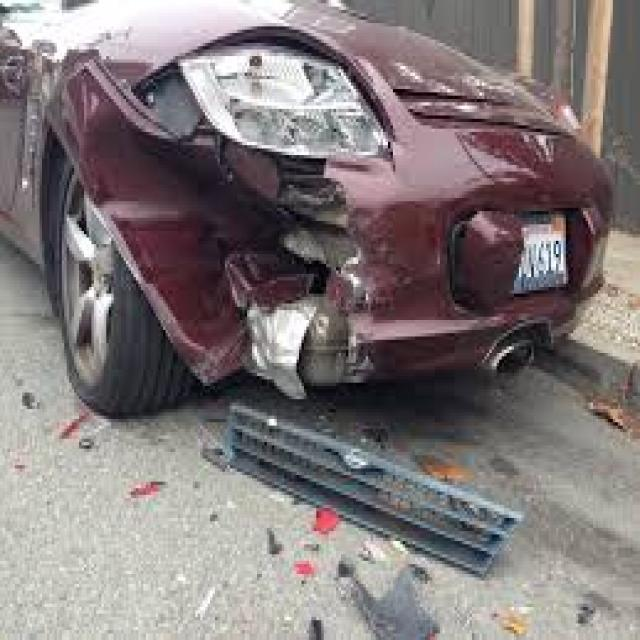moderate: (24, 0, 437, 405)
